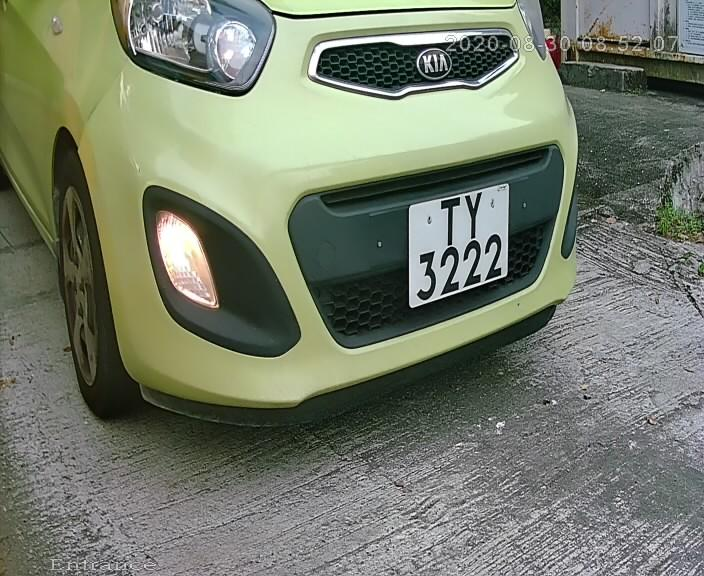Car: (13, 6, 623, 453)
License Plate: (409, 175, 513, 309)
